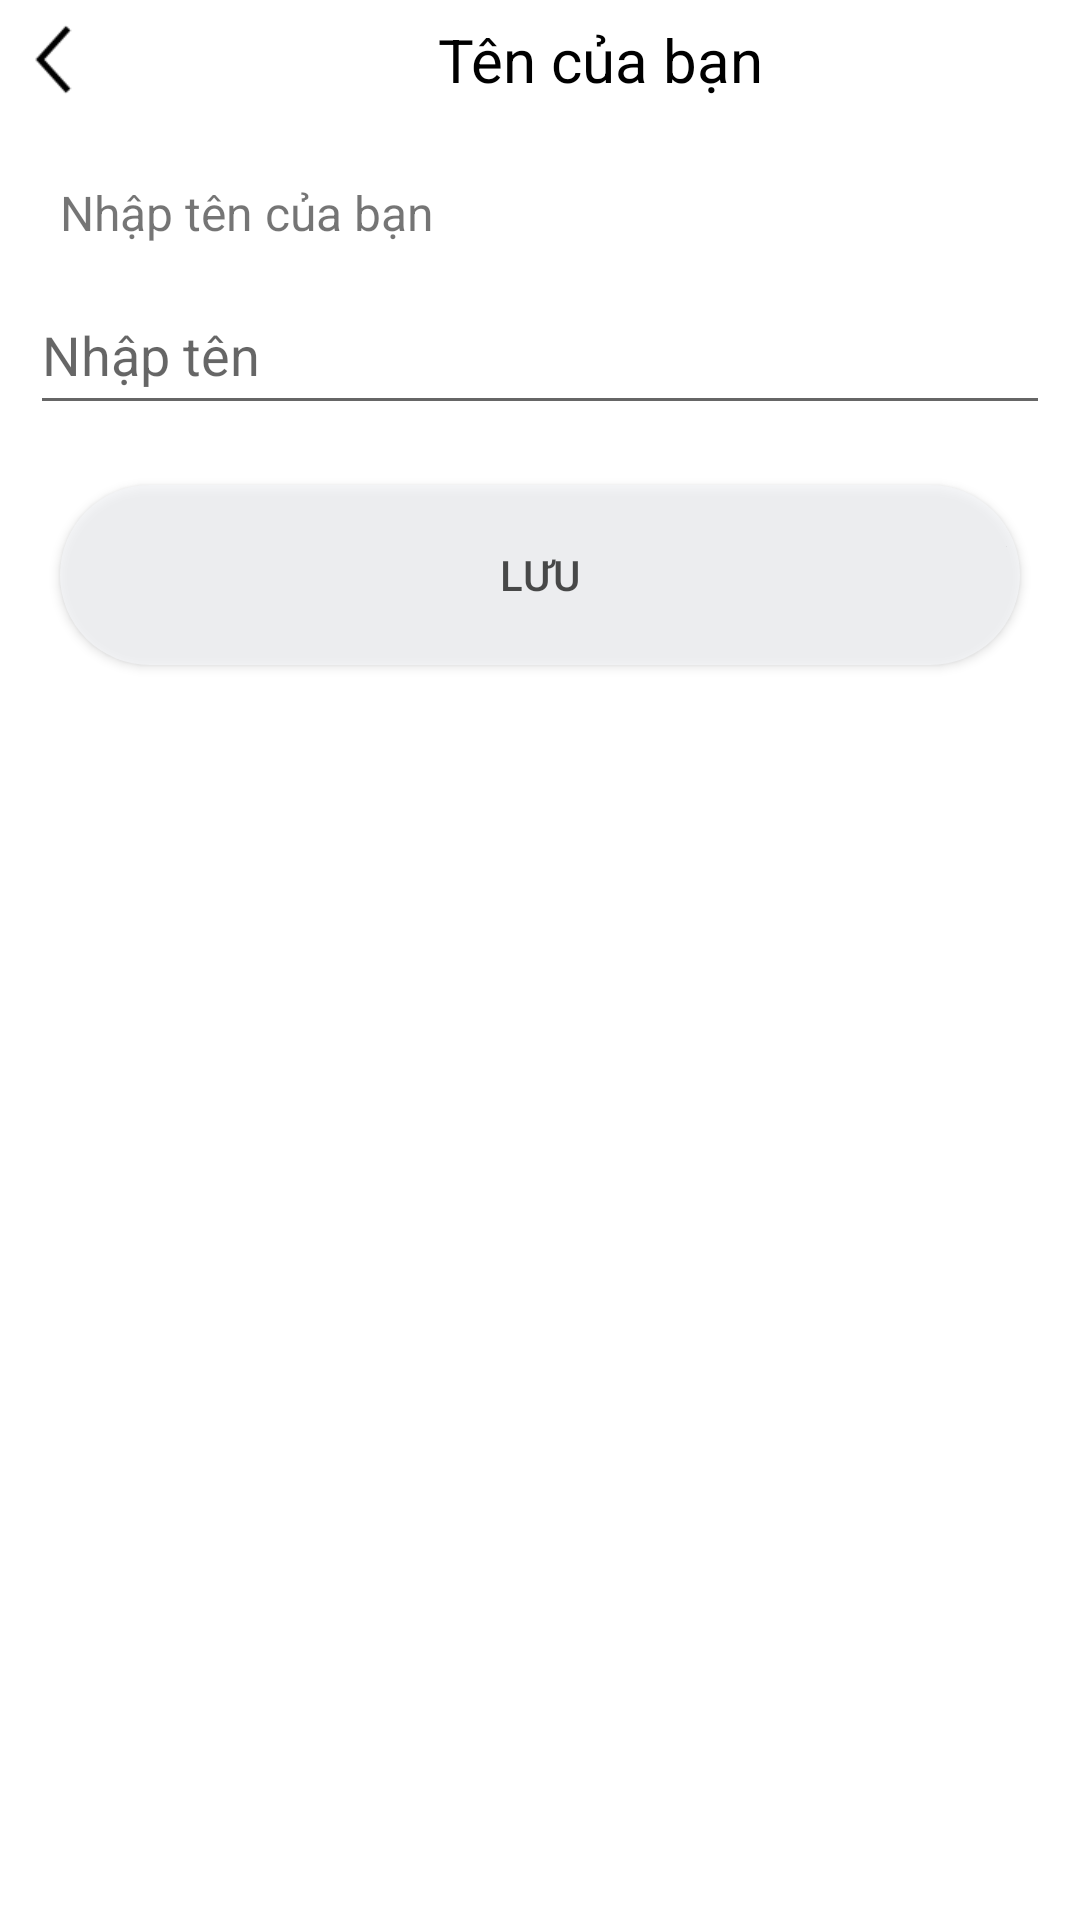

Icon click points for this 1080 × 1920 phone screenshot, format (x,y):
back: (53,59)
